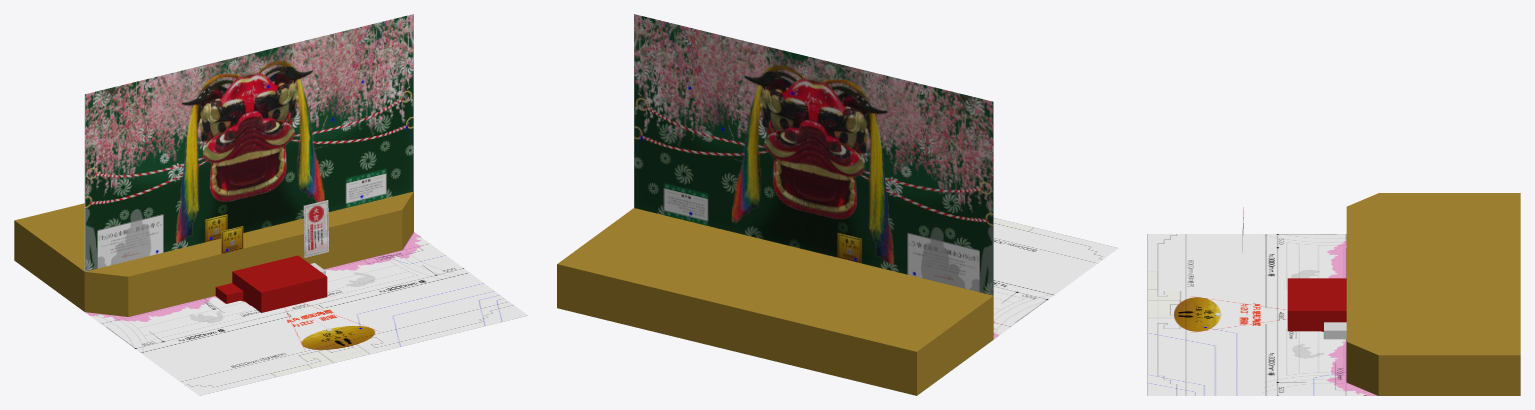
Rendered from position_model_normal.fbx.
3 renders of one model, left to right at view 1: azimuth 30°, elevation 25°; view 2: azimuth 150°, elevation 25°; view 3: azimuth 270°, elevation 25°, orthographic. The views are drawn at different scales.
Parts seen in each view (by area): view 1: front, FLOOR, Stage, Step_C, omikuji, Plane004, Step_L; view 2: front, Stage, FLOOR; view 3: Stage, FLOOR, Step_C, Step_R.
Boxes of the visible parts, x1=… form: front: x1=84, y1=14, x2=413, y2=271; FLOOR: x1=85, y1=232, x2=527, y2=395; Stage: x1=14, y1=191, x2=413, y2=316; Step_C: x1=232, y1=255, x2=327, y2=312; omikuji: x1=303, y1=200, x2=328, y2=257; Plane004: x1=221, y1=226, x2=243, y2=253; Step_L: x1=215, y1=283, x2=243, y2=303; front: x1=634, y1=14, x2=993, y2=295; Stage: x1=557, y1=208, x2=993, y2=395; FLOOR: x1=993, y1=218, x2=1118, y2=339; Stage: x1=1346, y1=193, x2=1520, y2=395; FLOOR: x1=1147, y1=234, x2=1377, y2=395; Step_C: x1=1287, y1=278, x2=1346, y2=331; Step_R: x1=1324, y1=322, x2=1346, y2=339.
Size of the model in its own units: 5.98 by 3.78 by 5.81.
5 materials, 3 textured.
